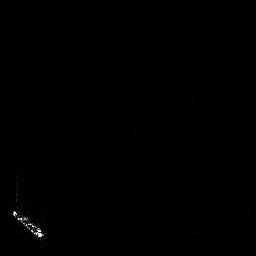ship: (9, 208, 48, 240)
